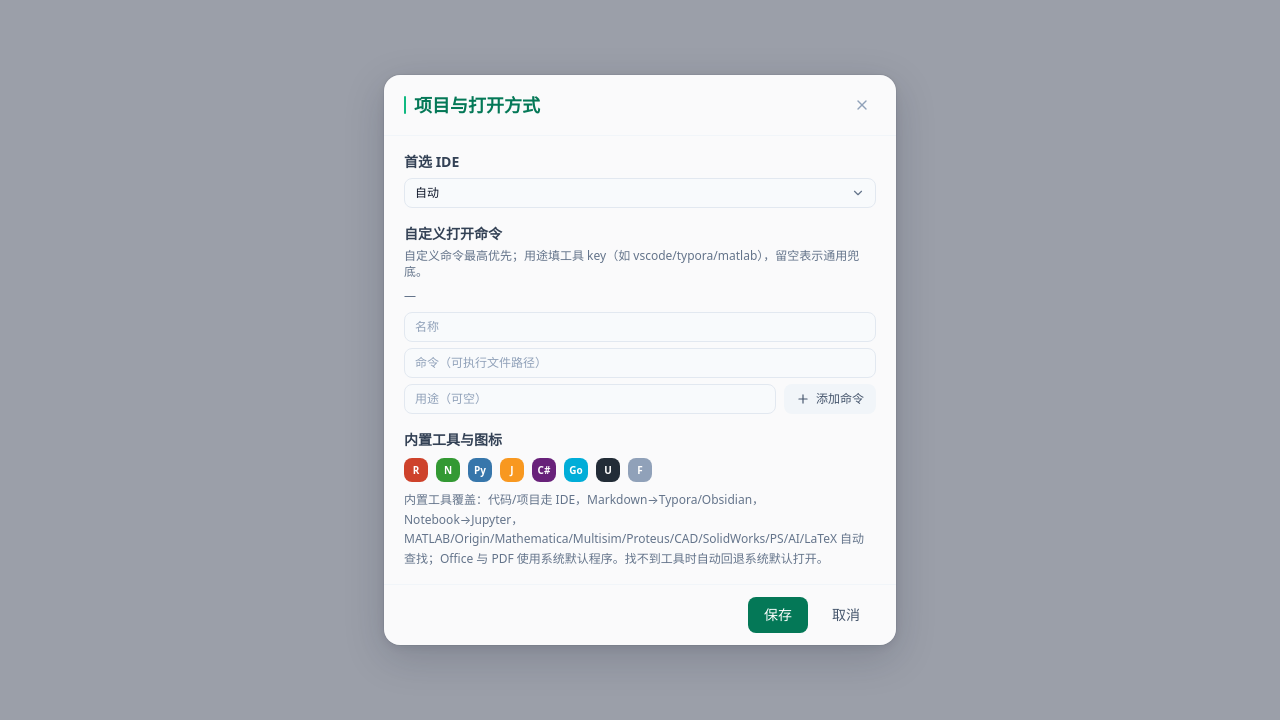
Test case: ProjectOpenDialog › 空名称/命令拒绝添加
Click the button "添加命令".
click(830, 399)  # box [784,384,876,414]
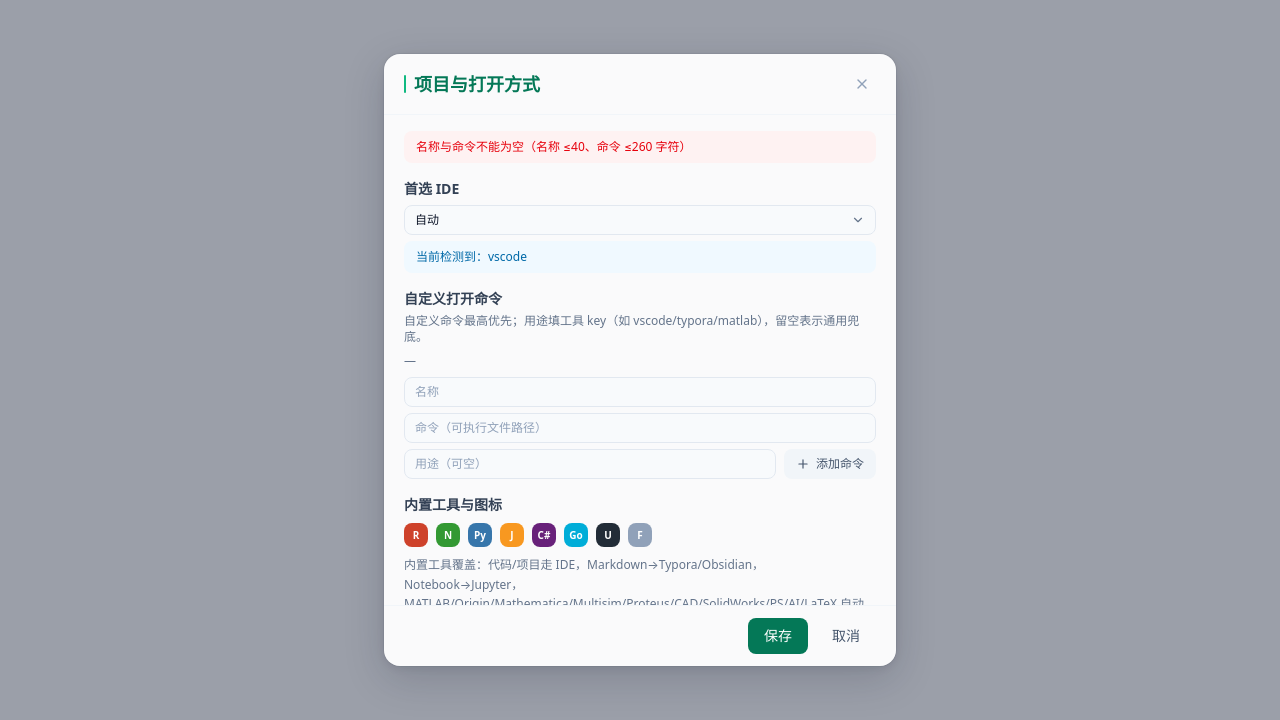
expect the text "名称与命令不能为空（名称 ≤40、命令 ≤260 字符）" is shown: met, box [404,131,876,163]
